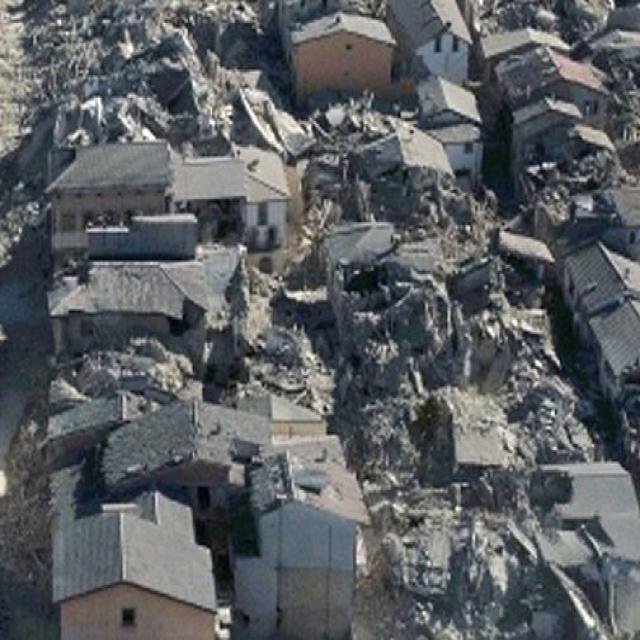collapsed_building: (381, 462, 637, 638), (316, 237, 552, 383), (52, 268, 311, 396), (46, 3, 249, 146), (360, 369, 600, 459), (301, 100, 444, 232), (527, 153, 639, 234), (467, 0, 572, 38)
